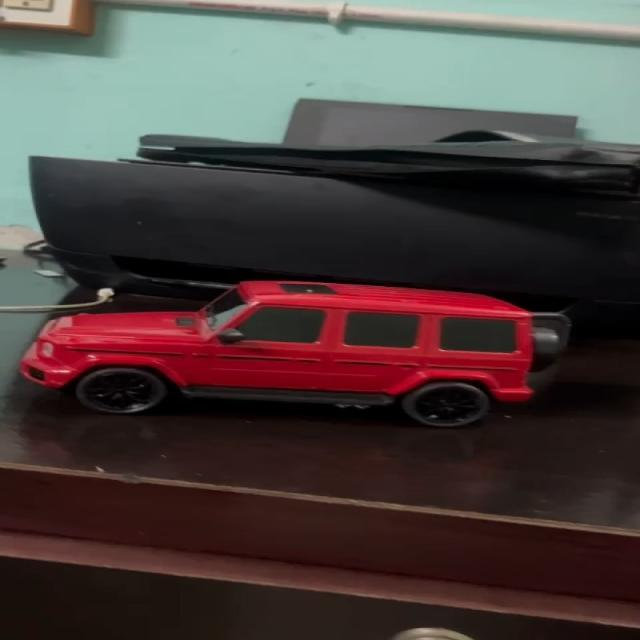light_vehicle: (10, 278, 567, 436)
